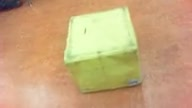cube: (63, 6, 143, 93)
